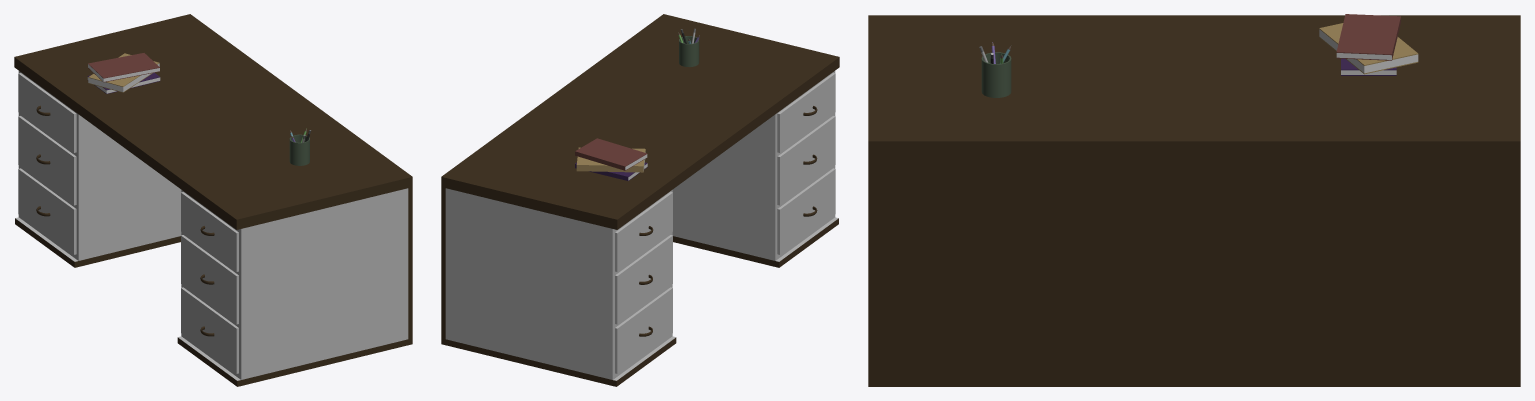
Rendered from table_room.fbx.
The picture shows the model from 3 angles, left to right: view 1: azimuth 30°, elevation 25°; view 2: azimuth 150°, elevation 25°; view 3: azimuth 270°, elevation 25°; orthographic projection. The views are drawn at different scales.
Parts seen in each view (by area): view 1: pCylinder12; view 2: pCylinder12; view 3: pCylinder12.
Boxes of the visible parts, x1,y1,x2,y2 form: pCylinder12: (14, 14, 412, 386); pCylinder12: (441, 14, 839, 386); pCylinder12: (868, 14, 1520, 386).
Bounding box in the file's own units: 4.53 × 4.73 × 9.63.
